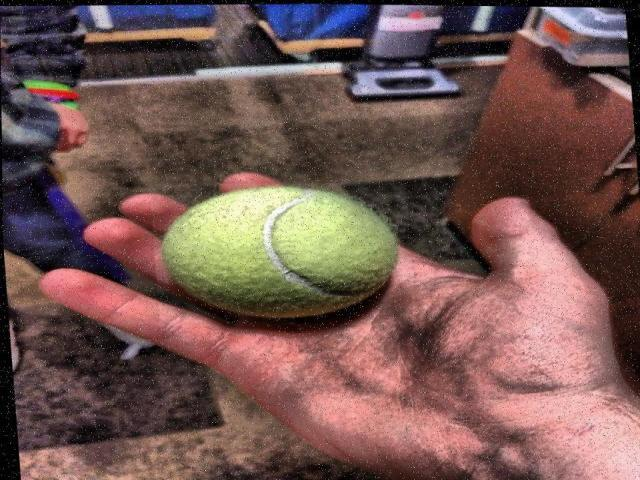tennis-ball: (164, 188, 400, 320)
